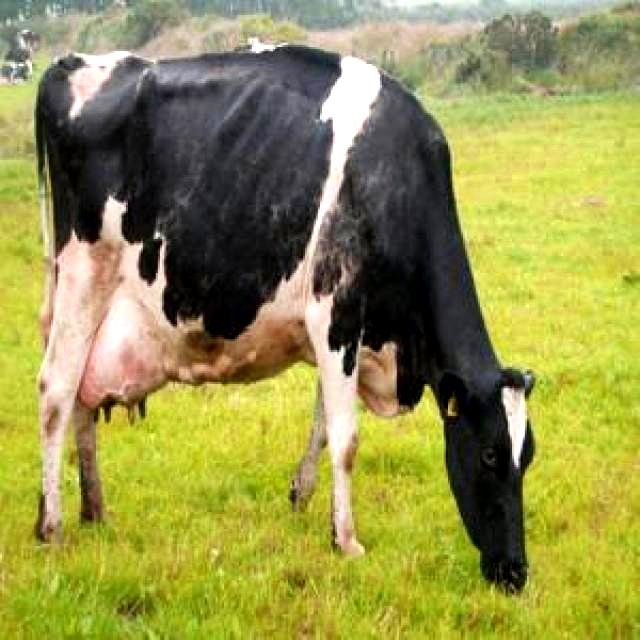COW: (35, 46, 534, 590)
